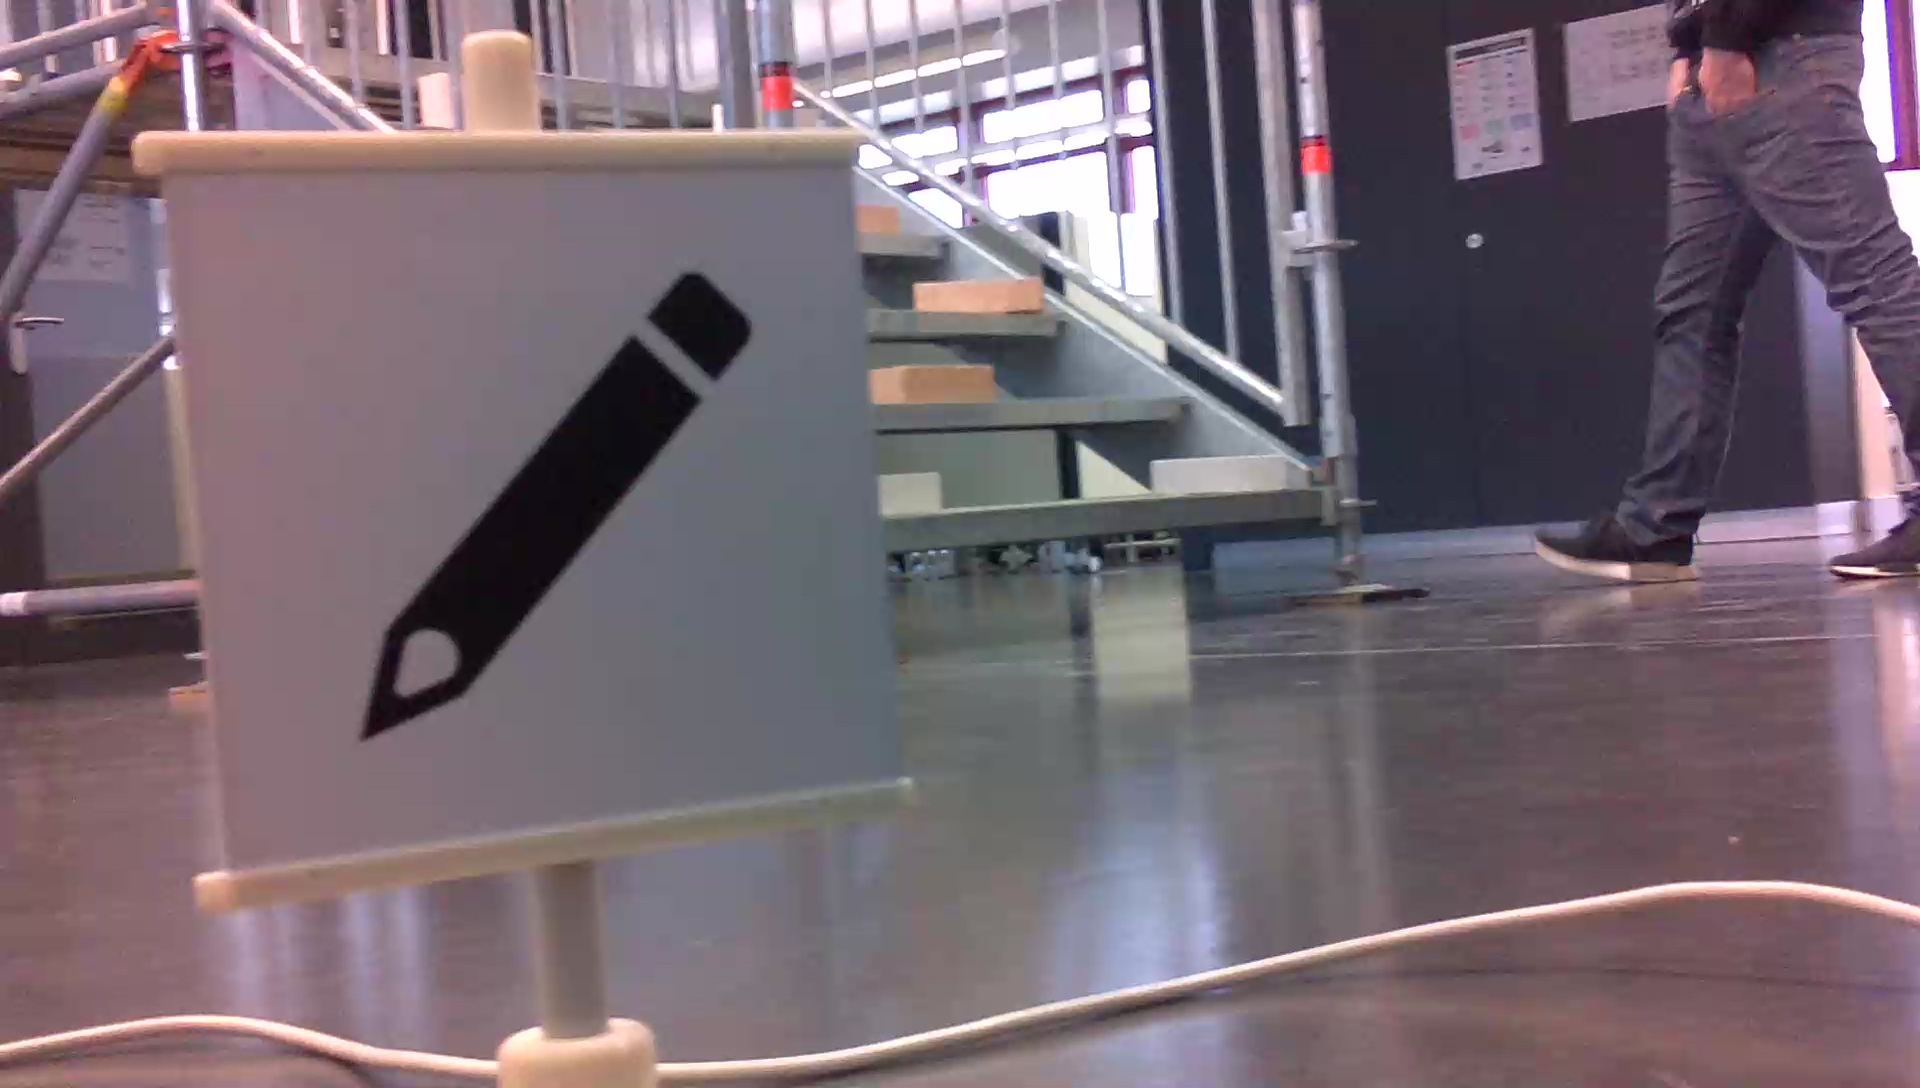brick: (1153, 455, 1280, 489), (872, 363, 990, 398), (913, 281, 1039, 313), (882, 472, 938, 510), (852, 203, 898, 233)
edge: (882, 491, 1323, 553), (874, 394, 1200, 427), (865, 313, 1072, 334), (856, 231, 952, 256)
pencil: (347, 252, 765, 752)
